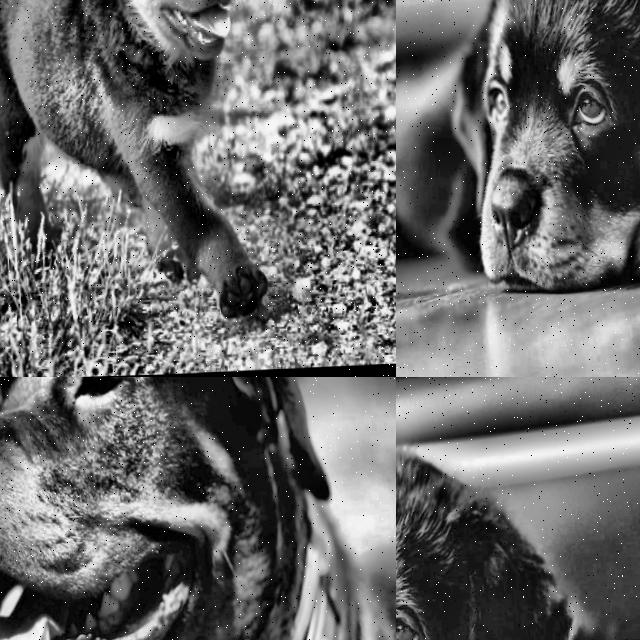rottweiler: (0, 377, 352, 640), (422, 0, 640, 335), (396, 408, 563, 640), (69, 0, 253, 91)
